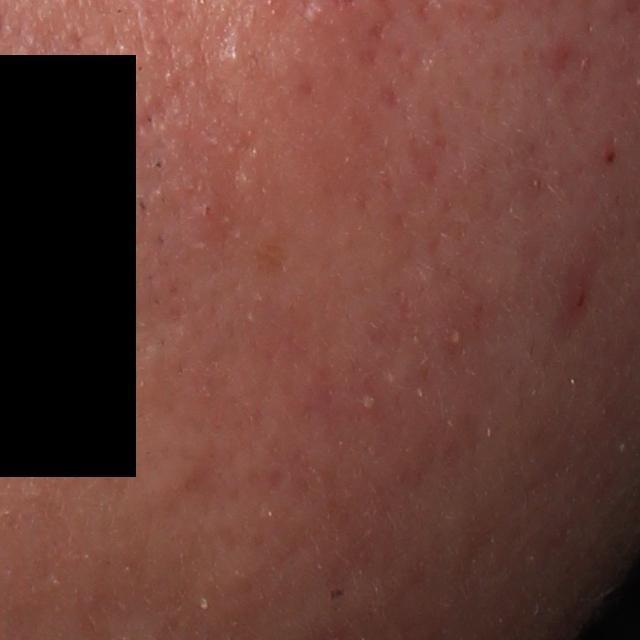comedo: (214, 39, 246, 70)
pustule: (354, 390, 383, 416)
